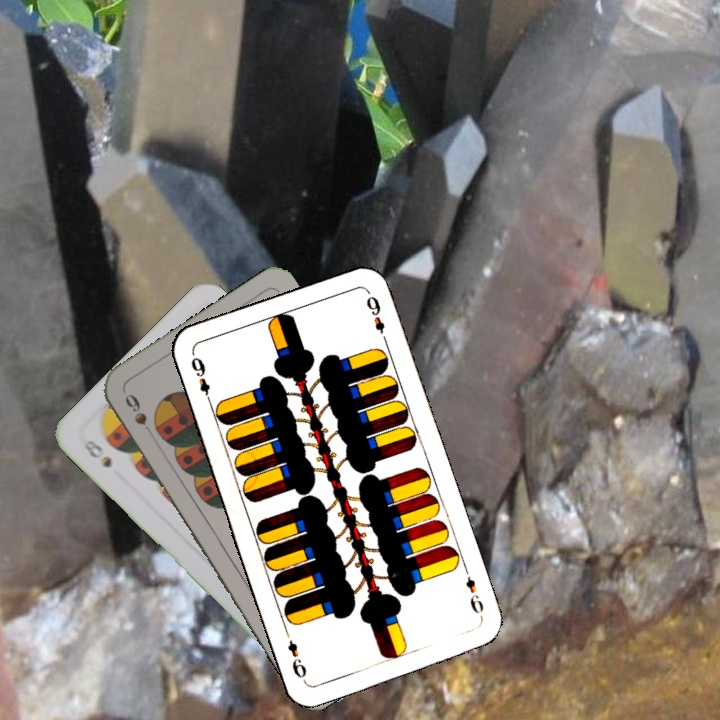E9: (460, 563, 487, 621), (187, 353, 215, 408)
S8: (79, 435, 114, 470)
S9: (120, 389, 150, 428)
